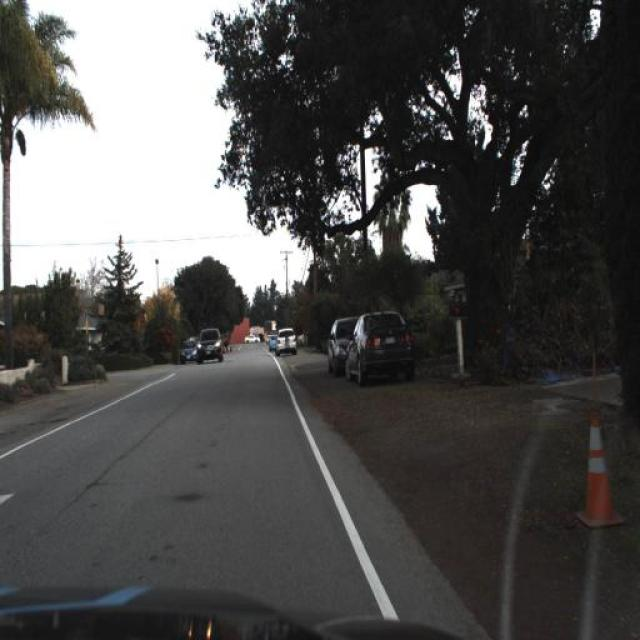car: (347, 306, 422, 386), (328, 308, 368, 372), (197, 327, 224, 368), (273, 325, 297, 355)
